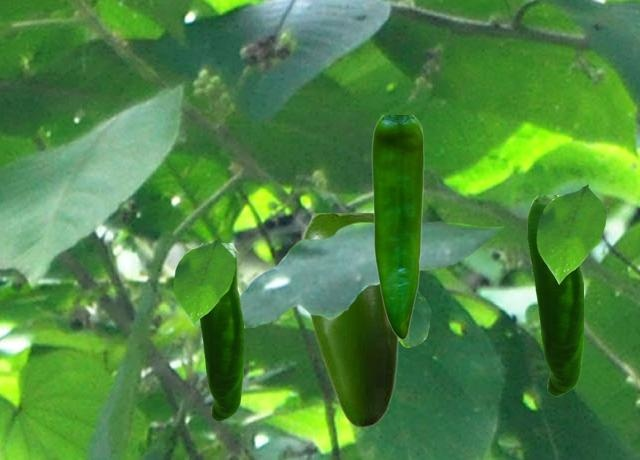green_chili: (302, 213, 397, 427), (371, 115, 423, 338), (527, 195, 582, 395), (199, 243, 242, 420)
